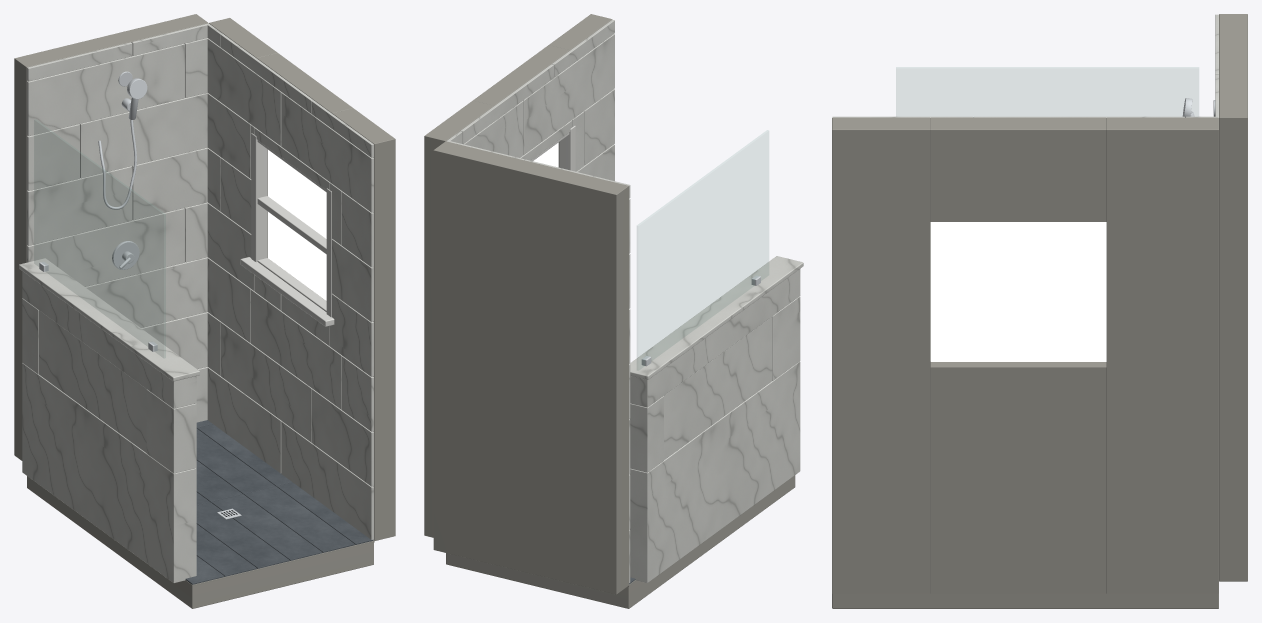
The model's file is 4-week-capitol-hill-bathroom-renovation.glb.
3 renders of one model, left to right at view 1: azimuth 30°, elevation 25°; view 2: azimuth 150°, elevation 25°; view 3: azimuth 270°, elevation 25°, orthographic. The views are drawn at different scales.
Parts seen in each view (by area): view 1: Window wall · field tile, Horizontal marble field · field tile, Tile-faced pony wall, Pony wall glass, Slate-blue shower planks · tile, Window wall · wall core, Recessed niche · back, Horizontal marble field · wall core, Slate-blue shower planks · foundation, Reframed bathroom window · frosted glazing, Matched tile pony wall cap, Reframed bathroom window · frame (+4 smaller); view 2: Horizontal marble field · wall core, Tile-faced pony wall, Pony wall glass, Window wall · field tile, Window wall · wall core, Recessed niche · back, Matched tile pony wall cap, Slate-blue shower planks · foundation, Horizontal marble field · field tile, Reframed bathroom window · frame; view 3: Window wall · wall core, Reframed bathroom window · frosted glazing, Horizontal marble field · wall core, Pony wall glass, Slate-blue shower planks · foundation, Window wall · field tile.
Part boxes in pixels (bbox=[...]): Window wall · field tile: bbox=[207, 23, 373, 540]; Horizontal marble field · field tile: bbox=[27, 23, 208, 422]; Tile-faced pony wall: bbox=[22, 271, 196, 583]; Pony wall glass: bbox=[34, 120, 165, 357]; Slate-blue shower planks · tile: bbox=[185, 420, 373, 584]; Window wall · wall core: bbox=[209, 18, 395, 541]; Recessed niche · back: bbox=[39, 310, 146, 452]; Horizontal marble field · wall core: bbox=[14, 14, 208, 460]; Slate-blue shower planks · foundation: bbox=[27, 476, 373, 608]; Reframed bathroom window · frosted glazing: bbox=[268, 150, 326, 300]; Matched tile pony wall cap: bbox=[19, 258, 199, 381]; Reframed bathroom window · frame: bbox=[251, 133, 332, 317]; Horizontal marble field · wall core: bbox=[433, 141, 628, 594]; Tile-faced pony wall: bbox=[629, 269, 800, 582]; Pony wall glass: bbox=[637, 130, 768, 369]; Window wall · field tile: bbox=[446, 19, 614, 180]; Window wall · wall core: bbox=[424, 14, 612, 537]; Recessed niche · back: bbox=[664, 316, 772, 459]; Matched tile pony wall cap: bbox=[630, 256, 803, 379]; Slate-blue shower planks · foundation: bbox=[446, 475, 795, 608]; Horizontal marble field · field tile: bbox=[447, 140, 630, 583]; Reframed bathroom window · frame: bbox=[559, 126, 575, 171]; Window wall · wall core: bbox=[832, 117, 1218, 593]; Reframed bathroom window · frosted glazing: bbox=[930, 222, 1106, 361]; Horizontal marble field · wall core: bbox=[1219, 14, 1247, 581]; Pony wall glass: bbox=[896, 67, 1198, 116]; Slate-blue shower planks · foundation: bbox=[832, 593, 1218, 608]; Window wall · field tile: bbox=[832, 116, 1215, 117].
Bounding box in the file's own units: 1.26 × 2.34 × 1.79.
Materials: 9 (2 with a texture image).
